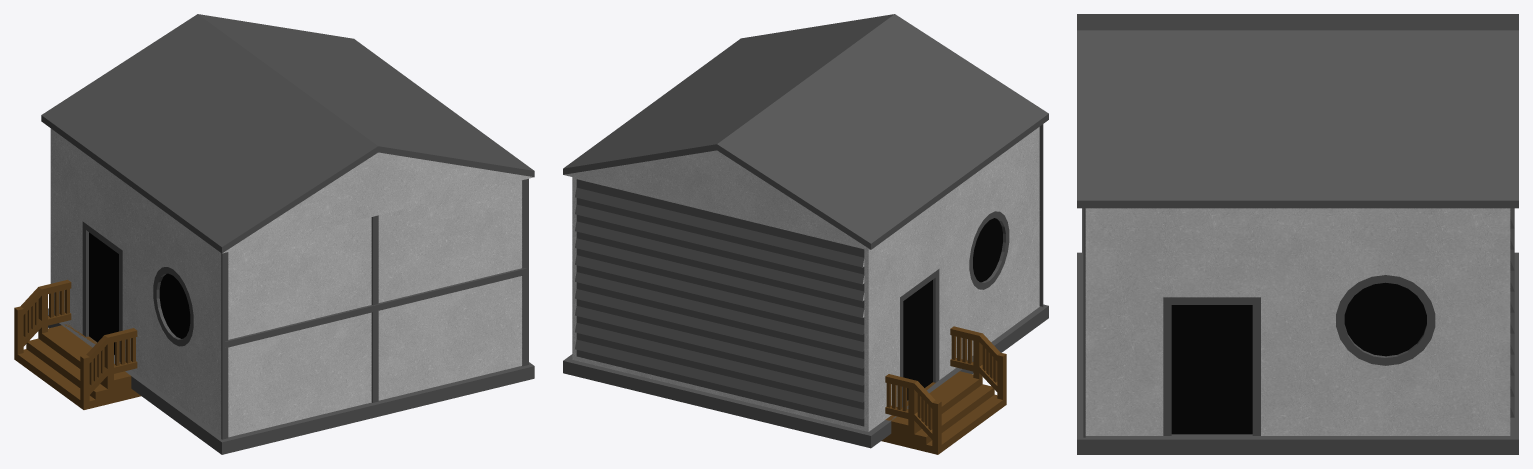
The model's file is LittleHouse.fbx.
3 renders of one model, left to right at view 1: azimuth 30°, elevation 25°; view 2: azimuth 150°, elevation 25°; view 3: azimuth 270°, elevation 25°, orthographic. The views are drawn at different scales.
Parts seen in each view (by area): view 1: LittleHouse; view 2: LittleHouse; view 3: LittleHouse.
Part boxes in pixels (x1,y1,x2,y2): LittleHouse: [14, 14, 534, 454]; LittleHouse: [563, 14, 1048, 454]; LittleHouse: [1077, 14, 1518, 454].
Bounding box in the file's own units: 5.99 × 4.46 × 5.2.
